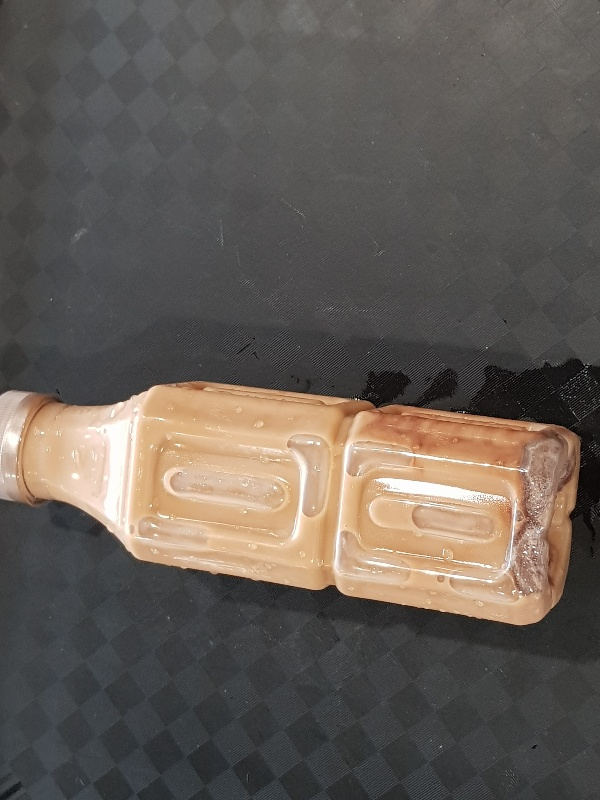Mocha: (2, 378, 581, 626)
